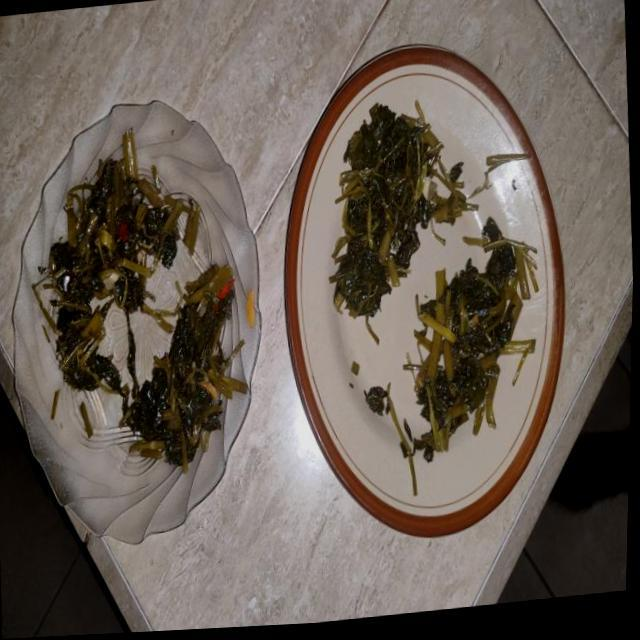tumis_kangkung: (44, 159, 198, 391), (403, 224, 538, 462), (329, 101, 466, 318), (130, 265, 247, 472)
